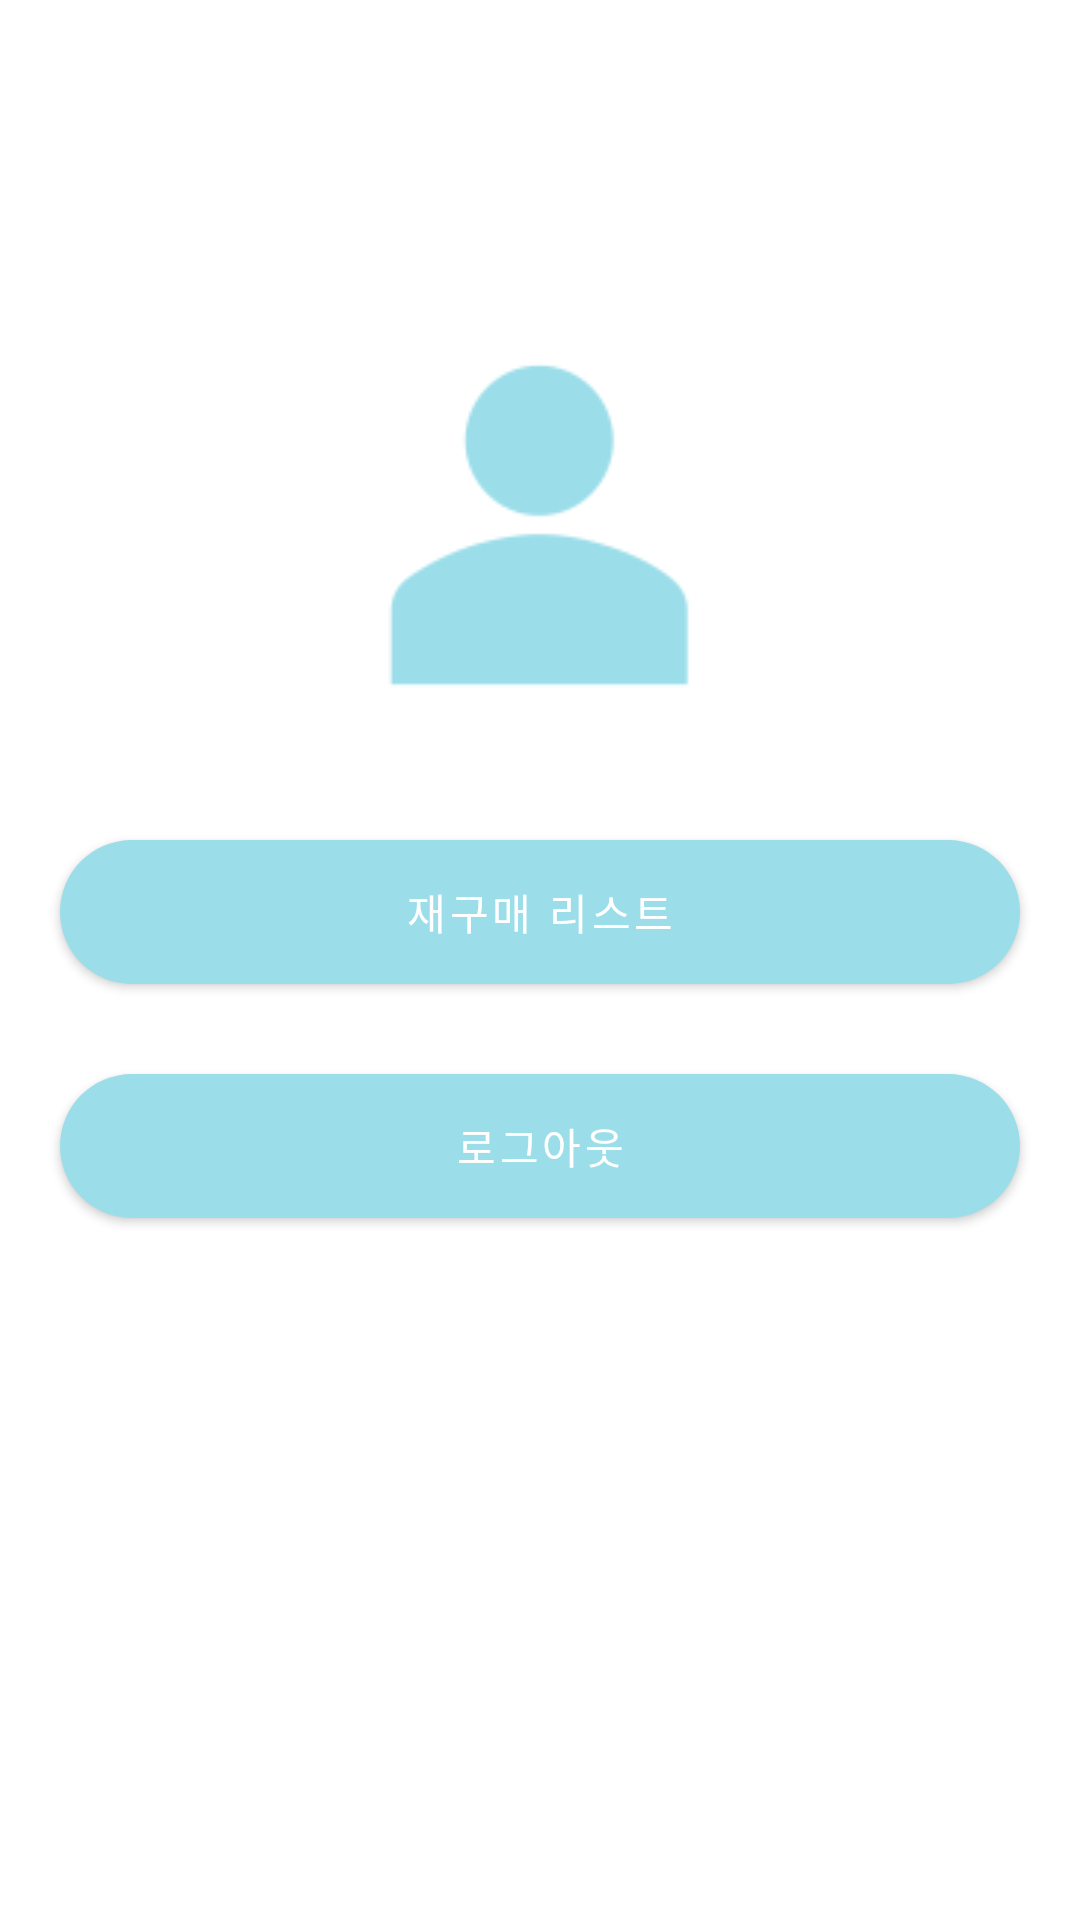

Named icons in this screenshot (1080×1920) and their bounding boxes, BBox(x1, y1, x2, y2):
user: BBox(390, 365, 689, 685)
